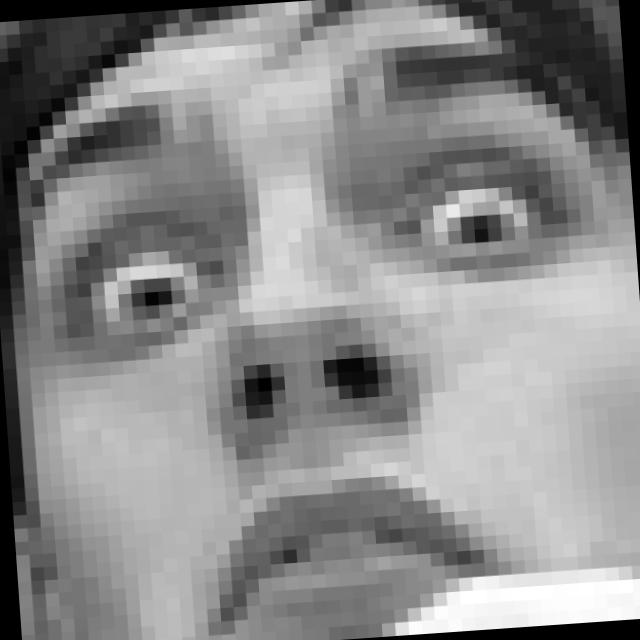surprise: (22, 35, 631, 640)
